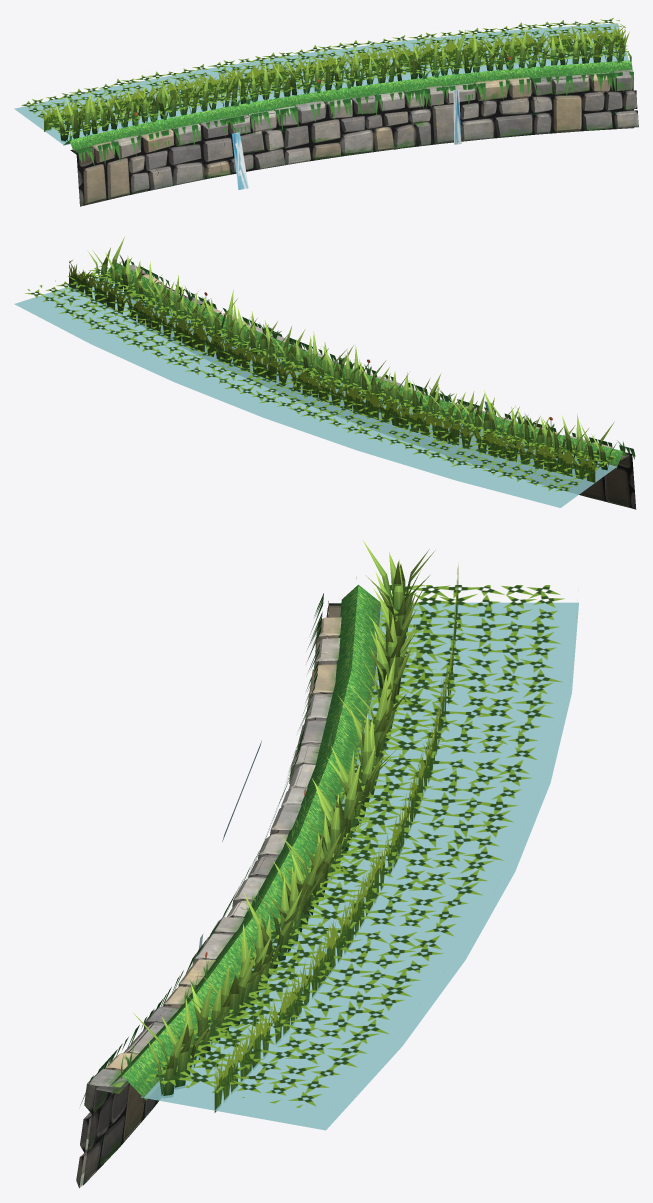
Rendered from terrace_concave_young_mid.glb.
3 renders of one model, top to bottom at view 1: azimuth 30°, elevation 25°; view 2: azimuth 150°, elevation 25°; view 3: azimuth 270°, elevation 25°, orthographic. The views are drawn at different scales.
Visible parts, largest first — view 1: terrace_concave_young_mid_wall, terrace_concave_young_mid_cards, terrace_concave_young_mid_lip, terrace_concave_young_mid_water, terrace_concave_young_mid_dike, terrace_concave_young_mid_falls; view 2: terrace_concave_young_mid_cards, terrace_concave_young_mid_water, terrace_concave_young_mid_lip, terrace_concave_young_mid_dike, terrace_concave_young_mid_wall; view 3: terrace_concave_young_mid_water, terrace_concave_young_mid_cards, terrace_concave_young_mid_lip, terrace_concave_young_mid_dike, terrace_concave_young_mid_wall.
Part boxes in pixels (x1,y1,x2,y2): terrace_concave_young_mid_wall: (70,69,638,206); terrace_concave_young_mid_cards: (21,17,633,166); terrace_concave_young_mid_lip: (56,23,629,141); terrace_concave_young_mid_water: (14,23,628,145); terrace_concave_young_mid_dike: (63,60,632,150); terrace_concave_young_mid_falls: (232,89,461,189); terrace_concave_young_mid_cards: (25,254,635,491); terrace_concave_young_mid_water: (14,276,617,507); terrace_concave_young_mid_lip: (87,237,616,470); terrace_concave_young_mid_dike: (107,262,627,468); terrace_concave_young_mid_wall: (129,264,636,509); terrace_concave_young_mid_water: (141,602,578,1130); terrace_concave_young_mid_cards: (80,564,564,1112); terrace_concave_young_mid_lip: (133,539,434,1097); terrace_concave_young_mid_dike: (108,584,381,1100); terrace_concave_young_mid_wall: (76,601,341,1188).
Size of the model in its own units: 12.79 by 1.97 by 5.15.
6 materials, 5 textured.
